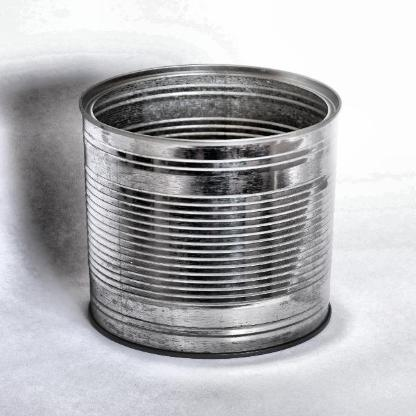Can: (72, 58, 346, 362)
